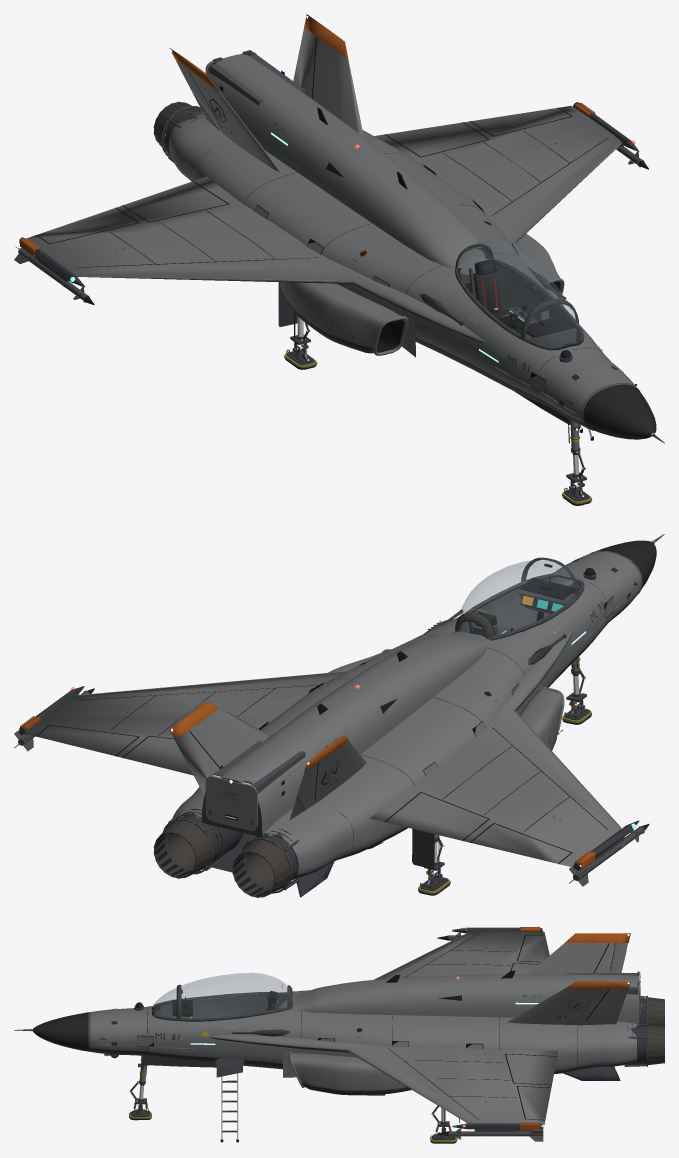
File: MilanFern.70fbdaf694.glb
3 renders of one model, top to bottom at view 1: azimuth 30°, elevation 25°; view 2: azimuth 150°, elevation 25°; view 3: azimuth 270°, elevation 25°, orthographic. The views are drawn at different scales.
Parts seen in each view (by area): view 1: Einlaufschaufel links.001, HUD-Scheibe.001, Rumpf.004, Absaugloch.040, Hauptfuge.005, Bauchflosse links.001, Holmfuge.004, Cockpitwanne.001, Abstandshalter.006, Einlauflippe.002, Seitenleitwerk links.001, Kopfpolster.001 (+5 smaller); view 2: Einlaufschaufel links.001, HUD-Scheibe.001, Brennkammer.002, Abstandshalter.006, Klappe.013, Absaugloch.040, Hauptfuge.005, Holmfuge.004, Bauchflosse links.001, Cockpitwanne.001, Rumpf.004, Seitenleitwerk links.001 (+6 smaller); view 3: Einlaufschaufel links.001, HUD-Scheibe.001, Bauchflosse links.001, Abstandshalter.006, Cockpitwanne.001, Rumpf.004, Hauptfuge.005, Brennkammer.002, Holmfuge.004, Seitenleitwerk links.001, Absaugloch.040, Canard.008 (+5 smaller).
Part boxes in pixels (box(x1,y1,x2,y2)): Einlaufschaufel links.001: box(27, 27, 636, 422); HUD-Scheibe.001: box(458, 240, 581, 347); Rumpf.004: box(583, 384, 656, 439); Absaugloch.040: box(164, 70, 636, 407); Hauptfuge.005: box(196, 142, 639, 430); Bauchflosse links.001: box(77, 166, 597, 430); Holmfuge.004: box(35, 38, 609, 394); Cockpitwanne.001: box(460, 265, 579, 347); Abstandshalter.006: box(19, 53, 639, 430); Einlauflippe.002: box(78, 143, 621, 413); Seitenleitwerk links.001: box(169, 14, 348, 90); Kopfpolster.001: box(474, 263, 512, 320); Einlaufschaufel links.001: box(25, 550, 642, 875); HUD-Scheibe.001: box(459, 560, 580, 637); Brennkammer.002: box(153, 559, 630, 897); Abstandshalter.006: box(19, 574, 639, 889); Klappe.013: box(205, 776, 257, 830); Absaugloch.040: box(155, 559, 637, 896); Hauptfuge.005: box(270, 550, 642, 856); Holmfuge.004: box(36, 596, 614, 864); Bauchflosse links.001: box(187, 581, 639, 897); Cockpitwanne.001: box(460, 588, 575, 632); Rumpf.004: box(592, 540, 656, 589); Seitenleitwerk links.001: box(169, 701, 348, 771); Einlaufschaufel links.001: box(88, 930, 638, 1124); HUD-Scheibe.001: box(152, 973, 294, 1017); Bauchflosse links.001: box(88, 1037, 636, 1103); Abstandshalter.006: box(110, 927, 646, 1129); Cockpitwanne.001: box(160, 995, 287, 1018); Rumpf.004: box(32, 1012, 88, 1051); Hauptfuge.005: box(89, 984, 577, 1070); Brennkammer.002: box(104, 997, 664, 1065); Holmfuge.004: box(137, 933, 609, 1120); Seitenleitwerk links.001: box(565, 933, 630, 989); Absaugloch.040: box(103, 970, 515, 1072); Canard.008: box(449, 930, 543, 1141).
Bounding box in the file's own units: 11.55 × 4.28 × 15.82.
